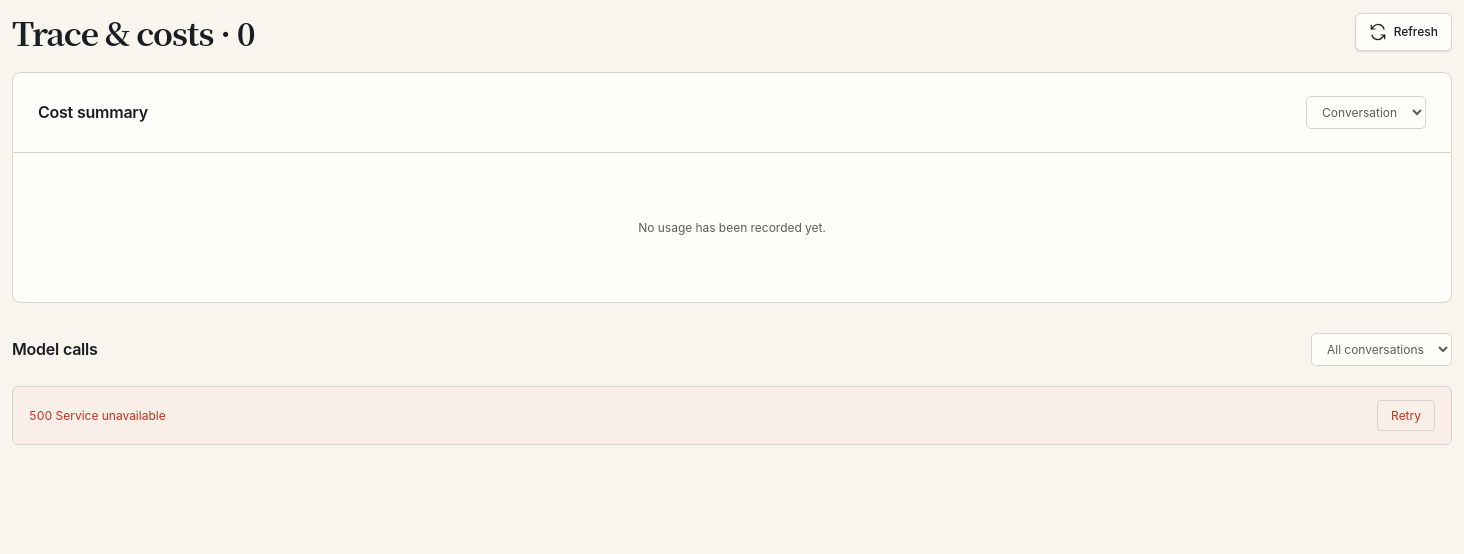
Test: retries a failed /traces read without presenting it as empty
Expected: the message shows "500 Service unavailable", [29,408,166,423]
Expected: the text "No model calls have been recorded for this selection." is not shown
Click the button "Retry" at coordinates (1406, 416), box [1377,400,1435,431]
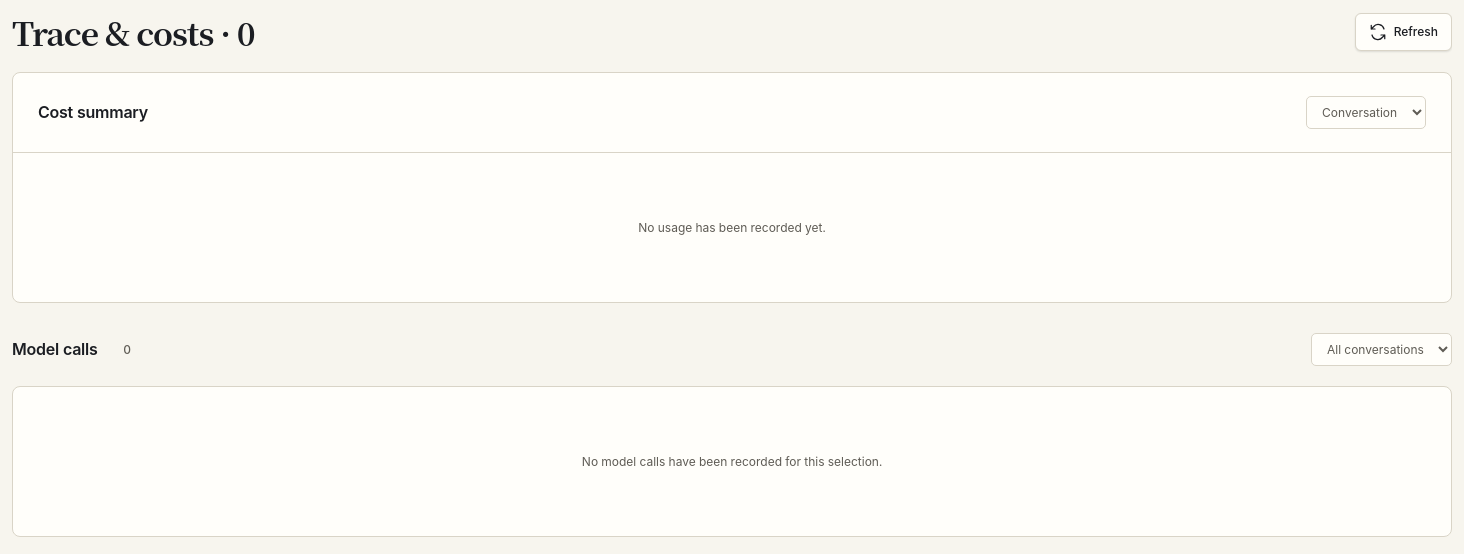
Result: the text "No model calls have been recorded for this selection." is shown at [582,452,882,471]
Result: the message "500 Service unavailable Retry" is gone
